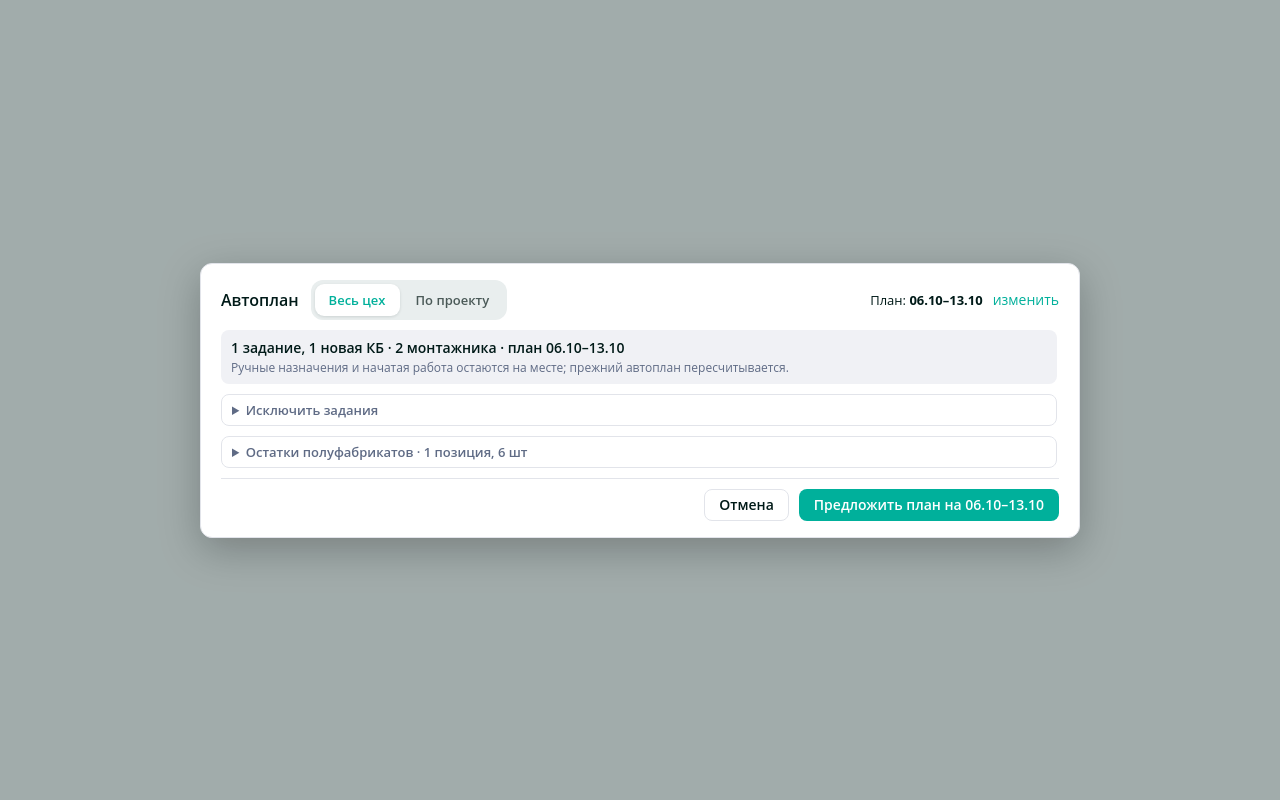
Test: shows semi-finished leftovers and hints «из остатков» on the operation that would make them again
Expected: the heading "Остатки полуфабрикатов · 1 позиция, 6 шт" is shown, 246,442 -> 528,460
Click the button "Предложить план на 06.10–13.10" at (929, 504), box 799,488 -> 1059,520
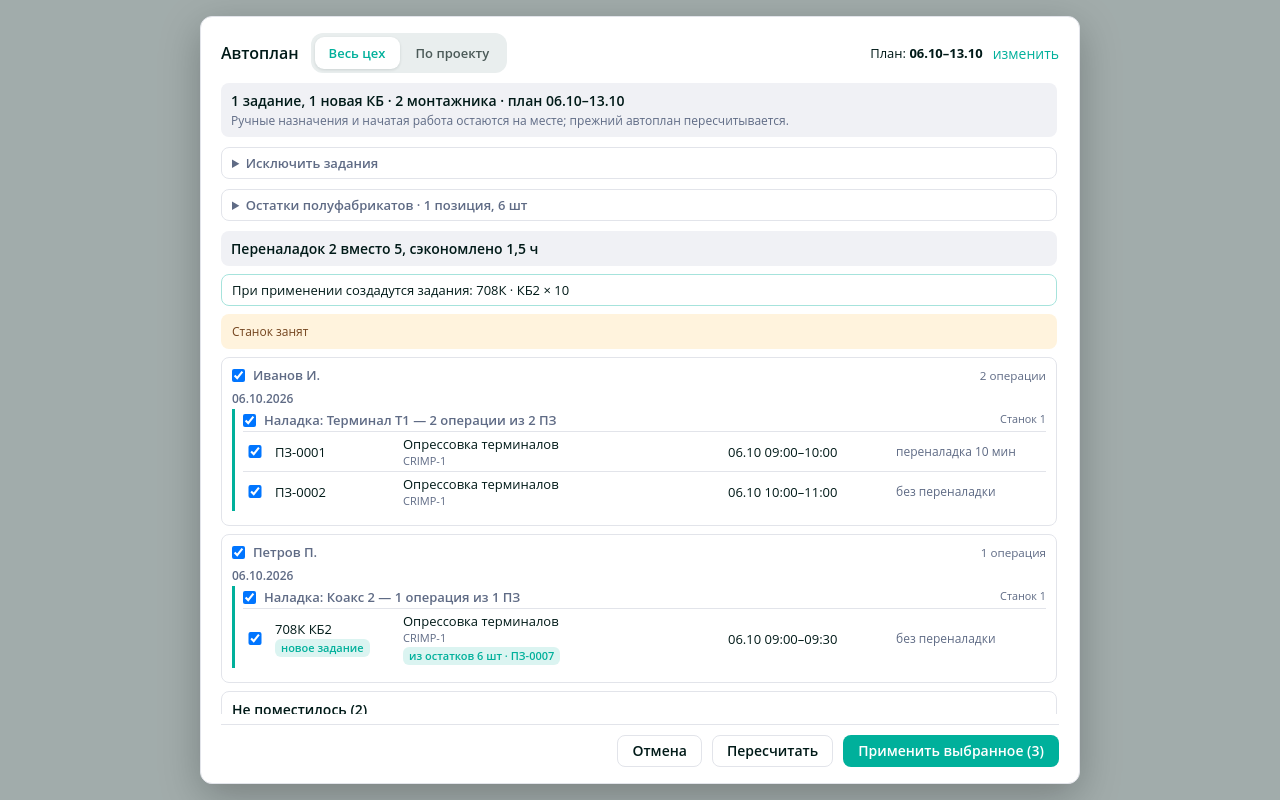
Expected: the text "Переналадок 2 вместо 5, сэкономлено 1,5 ч" is shown, 221,231 -> 1057,266
Expected: the text "из остатков 6 шт · ПЗ-0007" is shown once, 403,647 -> 560,665
Expected: the text "из остатков 6 шт · ПЗ-0007" is shown, 403,647 -> 560,665
